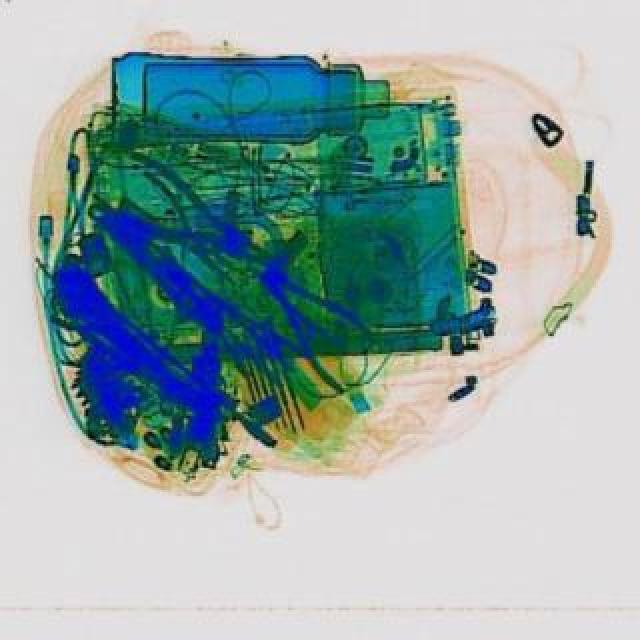wrench: (92, 148, 292, 298), (236, 252, 396, 402)
